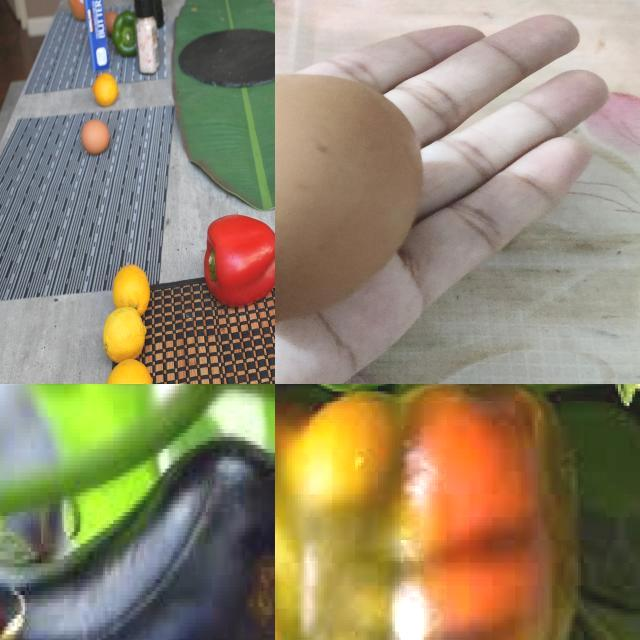bell_pepper: (276, 385, 585, 640), (198, 209, 276, 302), (115, 8, 141, 58)
egg: (276, 66, 430, 327), (80, 115, 112, 155)
eggplant: (1, 433, 276, 640)
